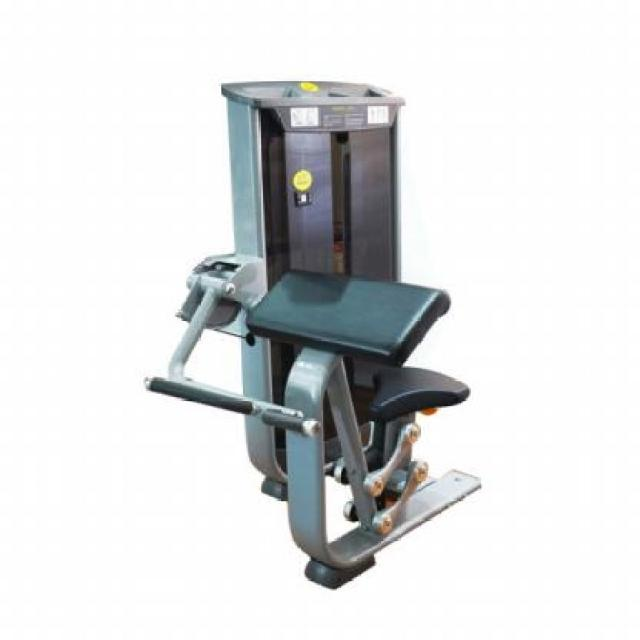arm curl machine: (144, 78, 484, 590)
